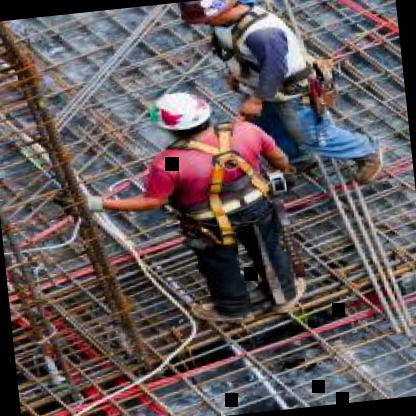helmet: (148, 87, 221, 140), (170, 0, 255, 31)
